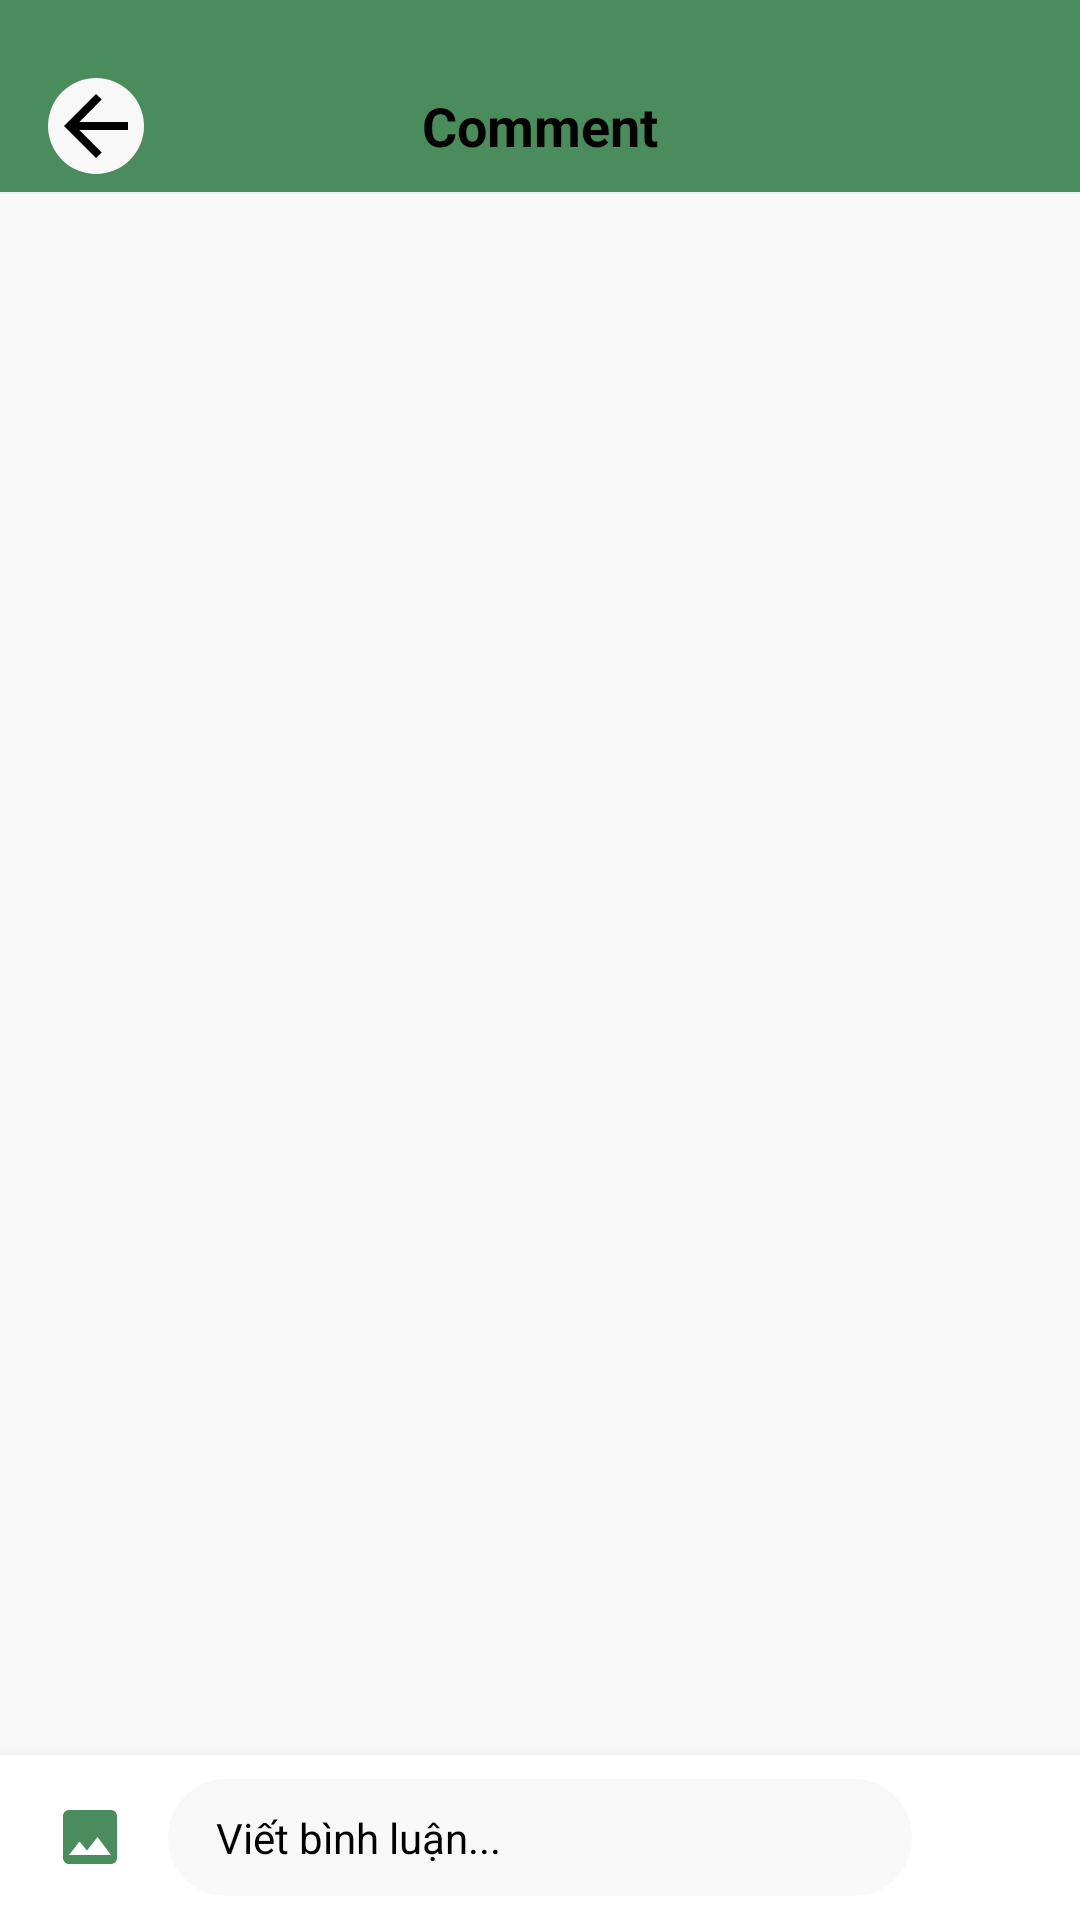

Screen size 1080px×1920px. Icon name, then its center in pixels as (x,y):
arrow back: (96,126)
